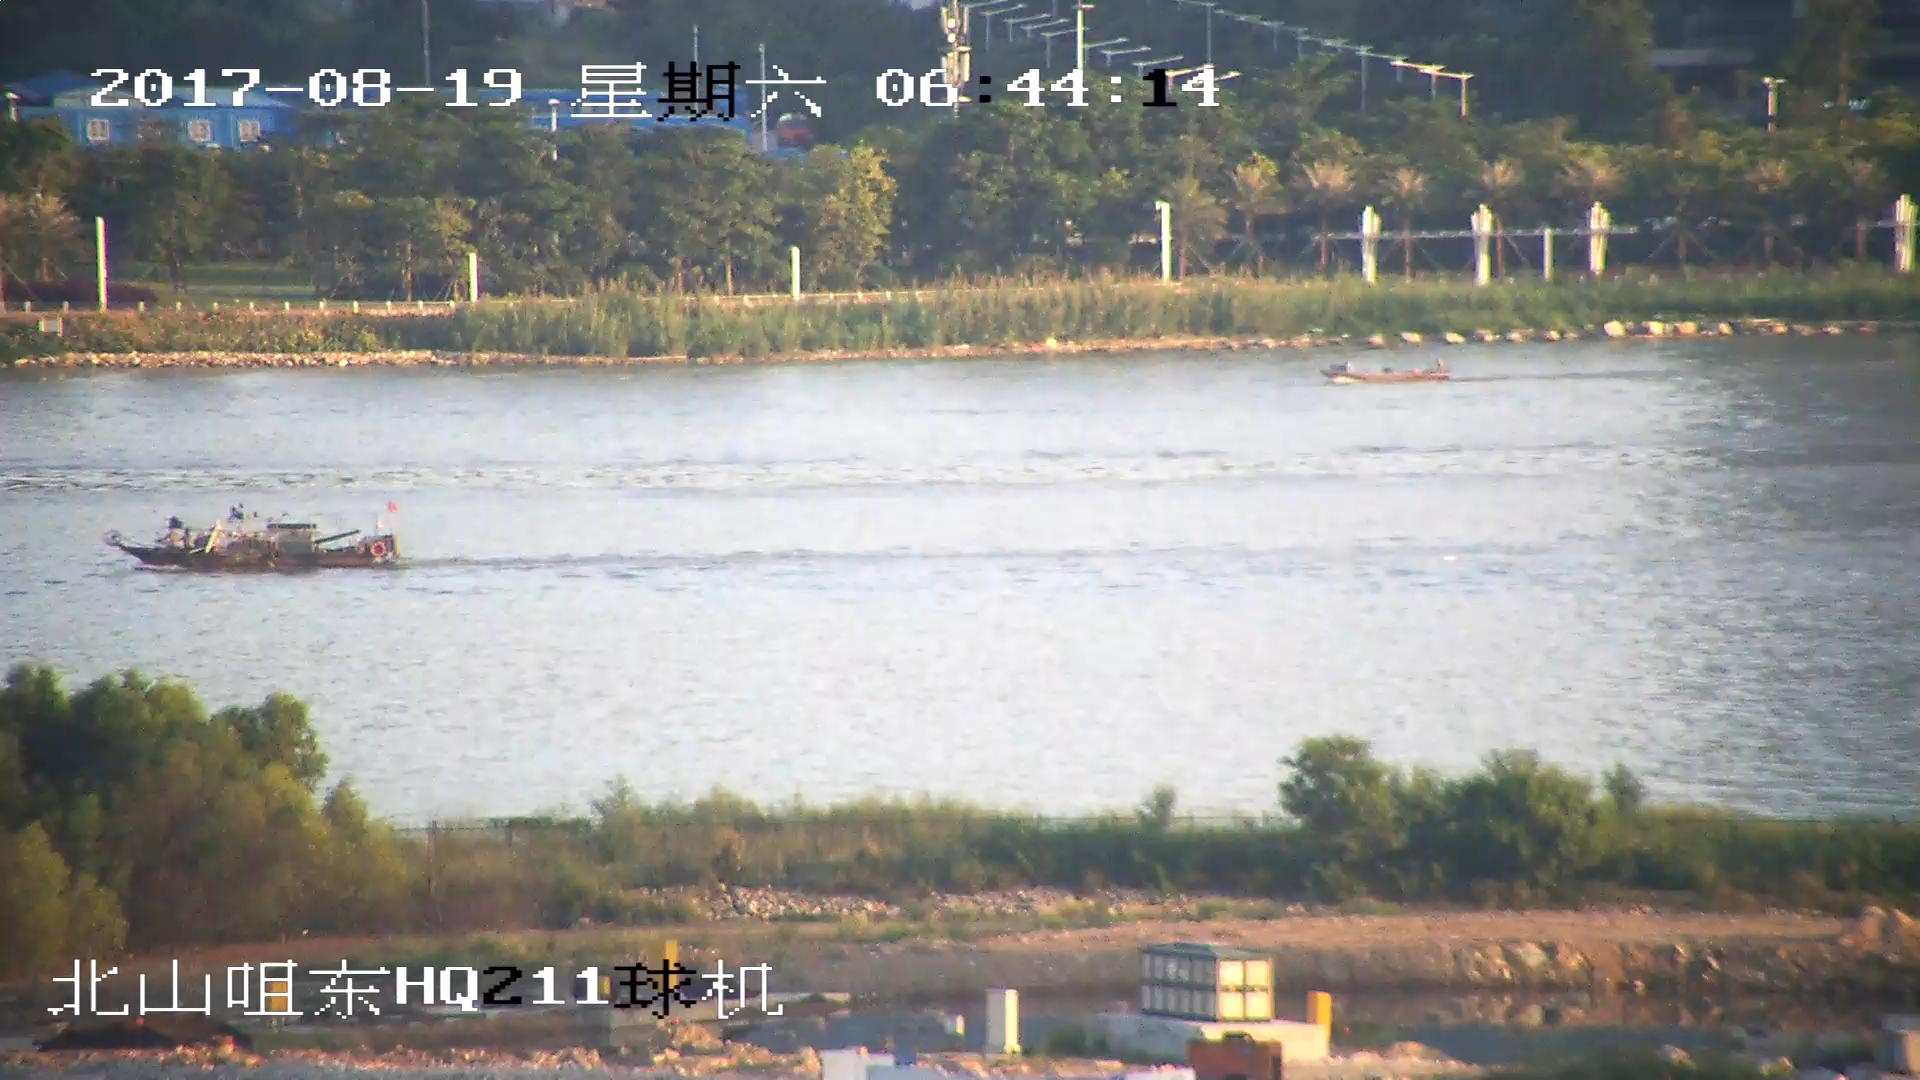fishing boat: (101, 503, 405, 573), (1320, 359, 1449, 386)
